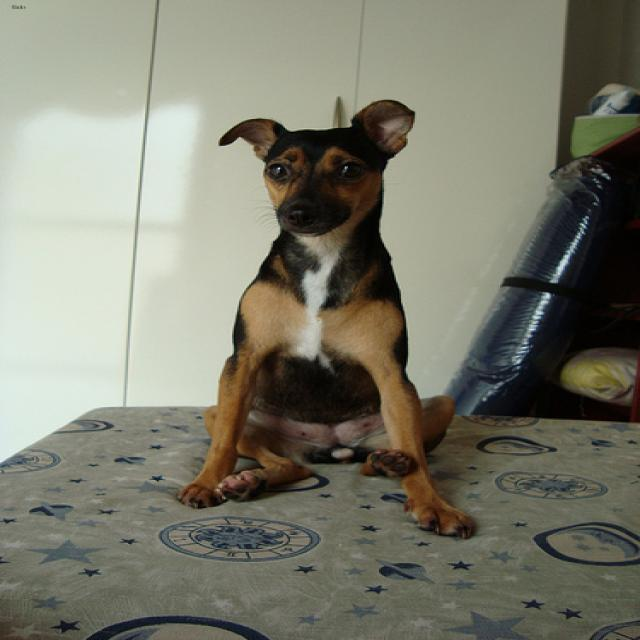dog-miniature_pinscher: (160, 93, 488, 552)
